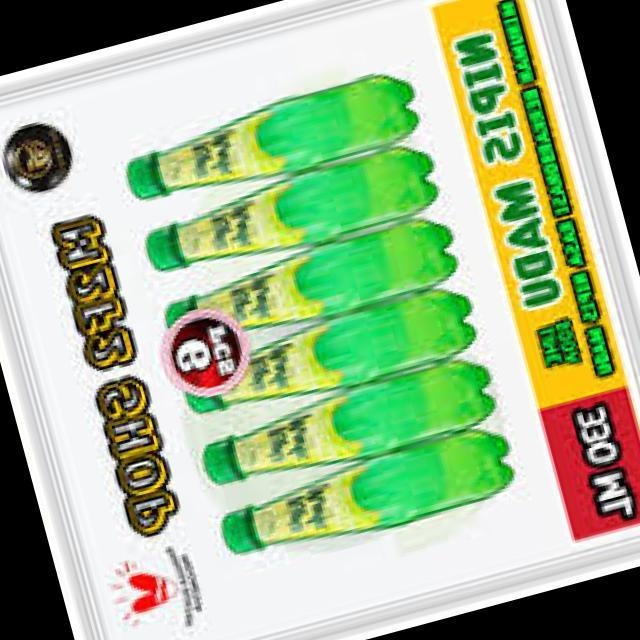good: (106, 45, 453, 233), (176, 340, 502, 512), (116, 128, 453, 290), (173, 274, 496, 443), (205, 414, 527, 580), (142, 207, 470, 364)
